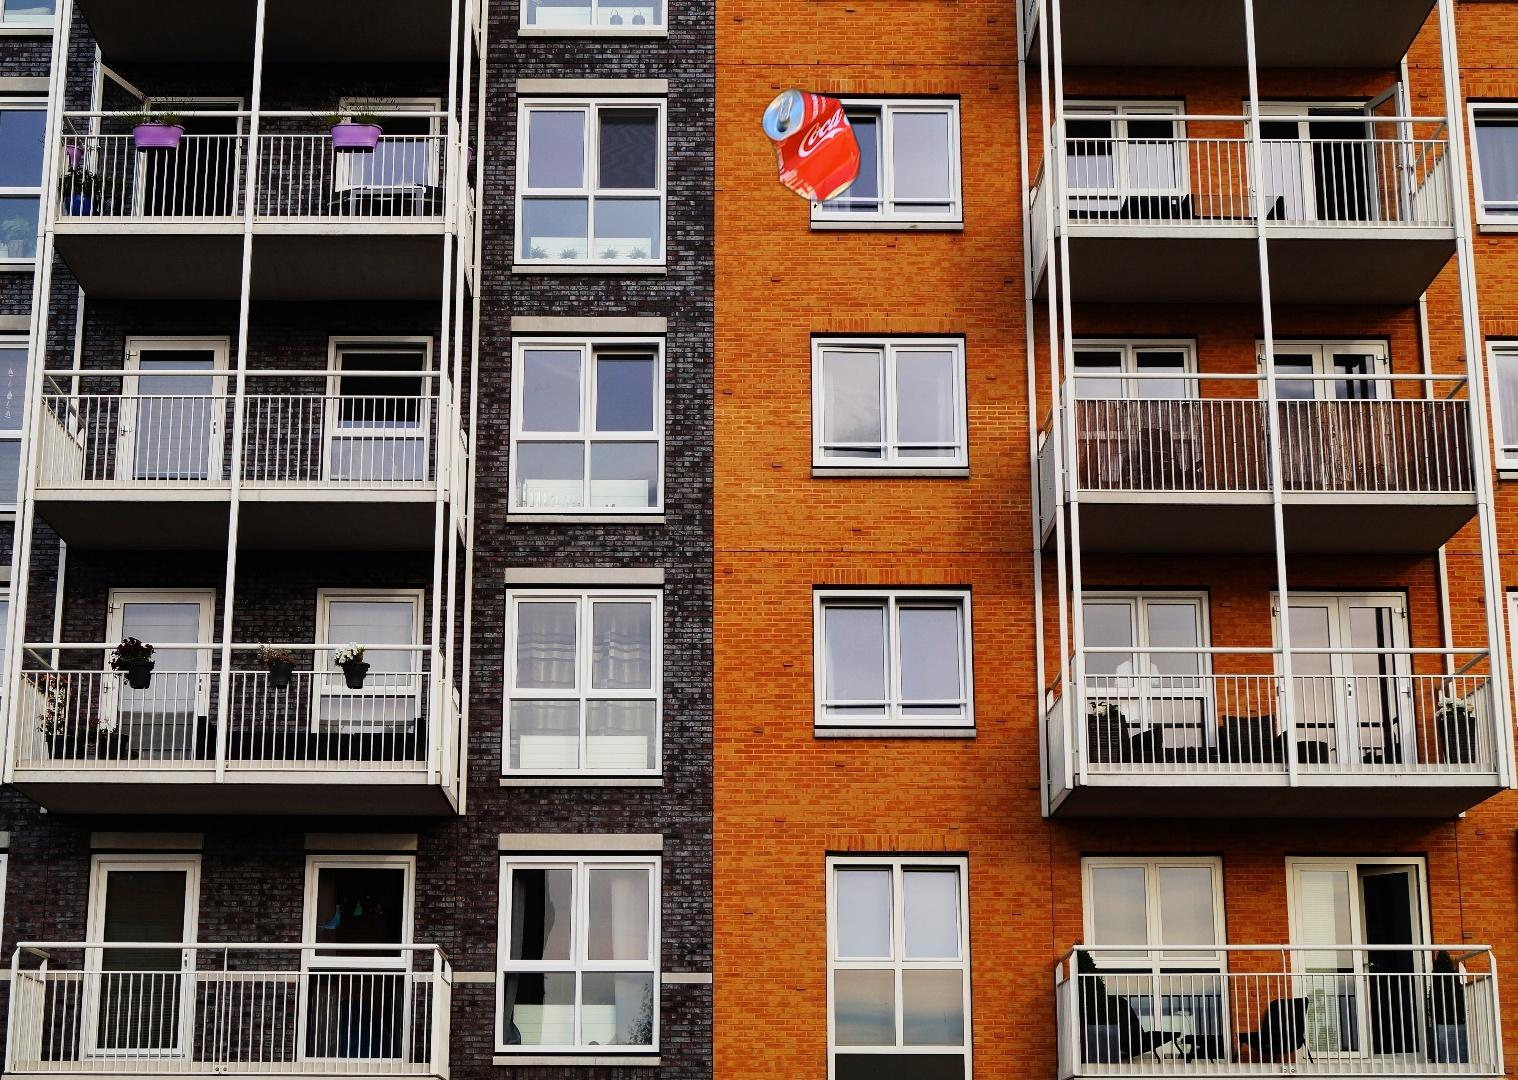metal-cans: (758, 82, 864, 207)
